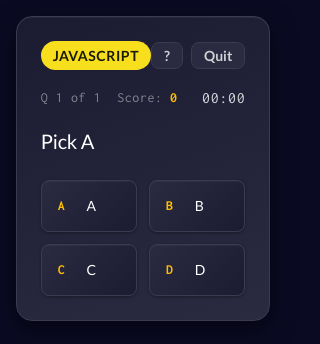
Test case: App component › clicking a wrong MC option shows FeedbackFlash with wrong styling and correct answer
The image size is (320, 344).
Click the button named "option B: B": point(197, 206) [149,180,245,232]
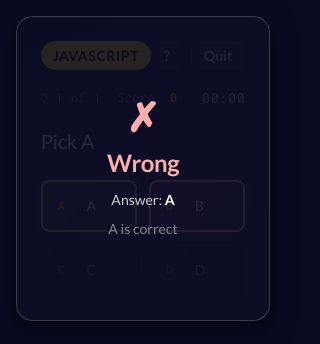
Now the text "Wrong" is shown, box [107,145,179,181]
